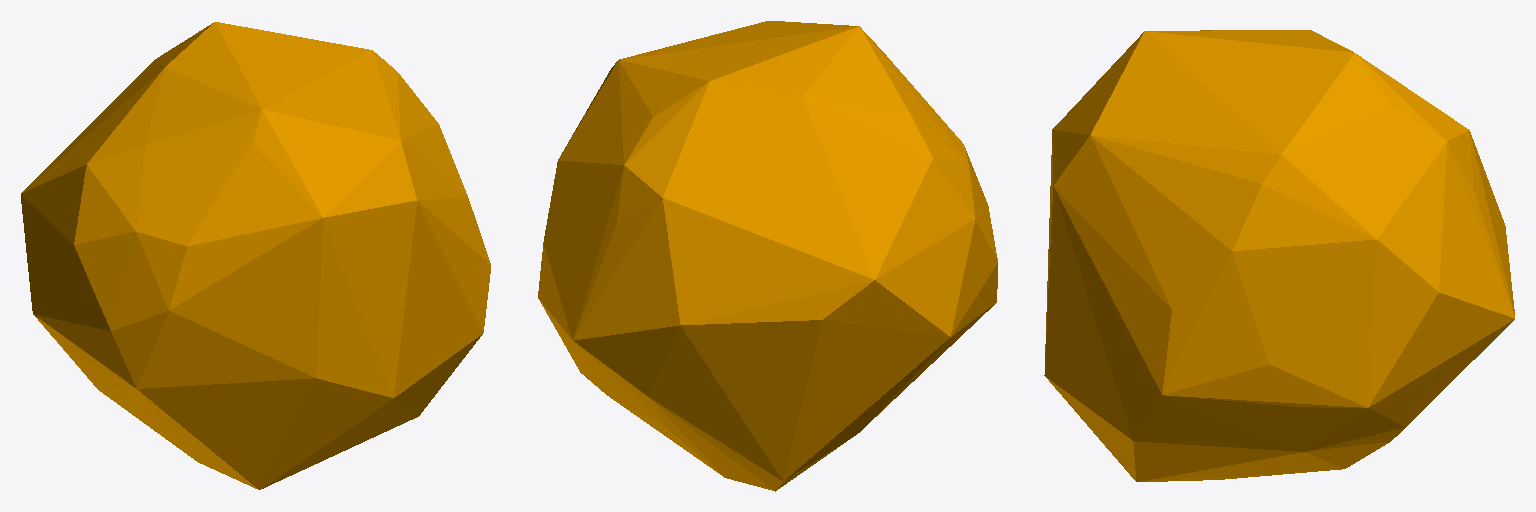
The robot description file, URDF, robot "055_010_8917":
<?xml version="1.0"?>
<robot name="055_010_8917">
  <link name="link">
    <contact>
      <lateral_friction value="0.6"/>
    </contact>
    <inertial>
      <mass value = "1.18688082147299"/>
      <inertia ixx="0.0011445122930197821" ixy="5.4761216384391394e-21" ixz="-2.0861415765482413e-21" iyy="0.0011703420949303797" iyz="-1.898388834658902e-19" izz="0.0011811256321935658" />
    </inertial>
    <visual name="visual">
      <geometry>
        <mesh filename="055_010_8917.obj"/>
      </geometry>
    </visual>
    <collision name="collision">
      <geometry>
        <mesh filename="055_010_8917.obj"/>
      </geometry>
    </collision>
  </link>
</robot>

--- Render facts (derived) ---
The picture shows the robot from 3 angles, left to right: view 1: azimuth 30°, elevation 25°; view 2: azimuth 150°, elevation 25°; view 3: azimuth 270°, elevation 25°; orthographic projection.
Robot: 055_010_8917 — 1 links, 0 joints (none); root link link; default pose: all joints at 0.
Visible links, largest first — view 1: link; view 2: link; view 3: link.
Boxes of the visible links, x1=… form: link: x1=21, y1=22, x2=490, y2=489; link: x1=538, y1=21, x2=997, y2=491; link: x1=1044, y1=30, x2=1514, y2=481.
Bounding box of the posed robot: 0.1047 × 0.0992 × 0.096 m (x, y, z).
1 mesh visuals loaded from 1 distinct referenced files (1 OBJ).
